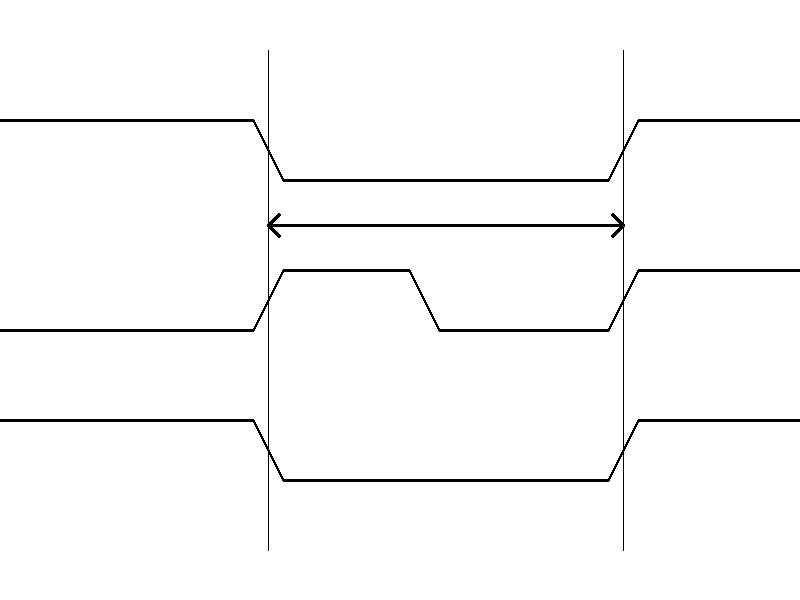double_arrow: (268, 210, 623, 240)
